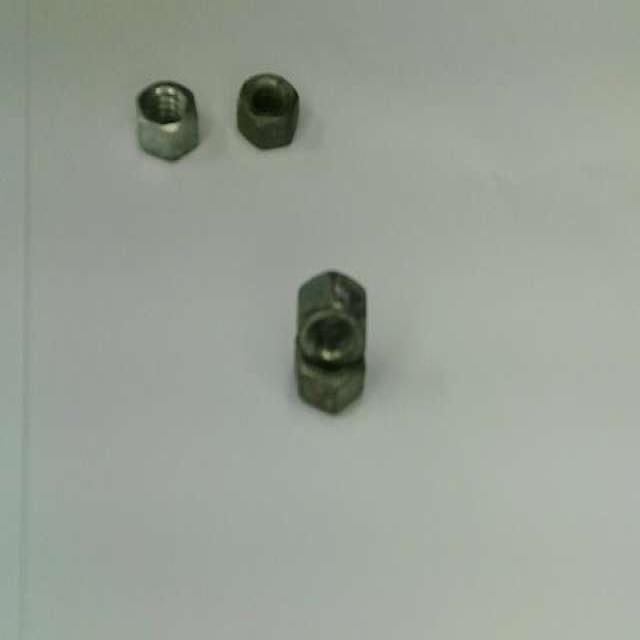Porca: (298, 271, 366, 370), (293, 338, 365, 414), (137, 81, 198, 159), (238, 73, 298, 147)
